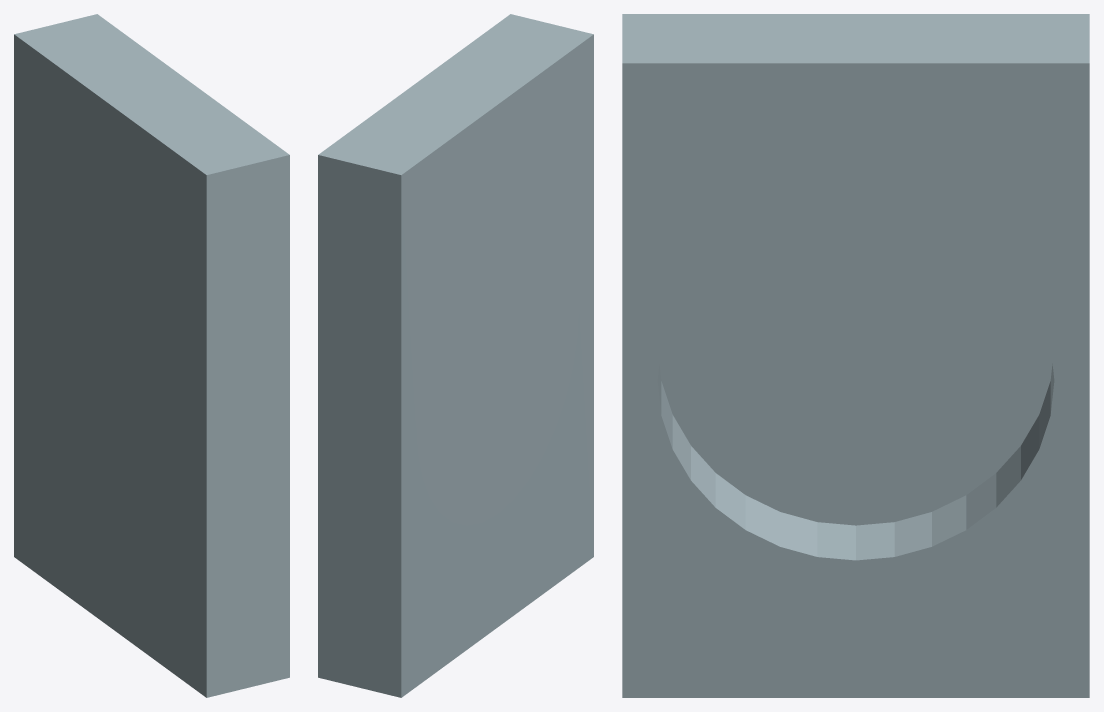
The model's file is LeftHollow_SmallWall.fbx.
3 renders of one model, left to right at view 1: azimuth 30°, elevation 25°; view 2: azimuth 150°, elevation 25°; view 3: azimuth 270°, elevation 25°, orthographic. The views are drawn at different scales.
Parts seen in each view (by area): view 1: LeftHollow_SmallWall; view 2: LeftHollow_SmallWall; view 3: LeftHollow_SmallWall.
Part boxes in pixels (box(x1,y1,x2,y2)): LeftHollow_SmallWall: box(14, 14, 289, 697); LeftHollow_SmallWall: box(318, 14, 593, 697); LeftHollow_SmallWall: box(622, 14, 1089, 697).
Size of the model in its own units: 100 by 600 by 400.
